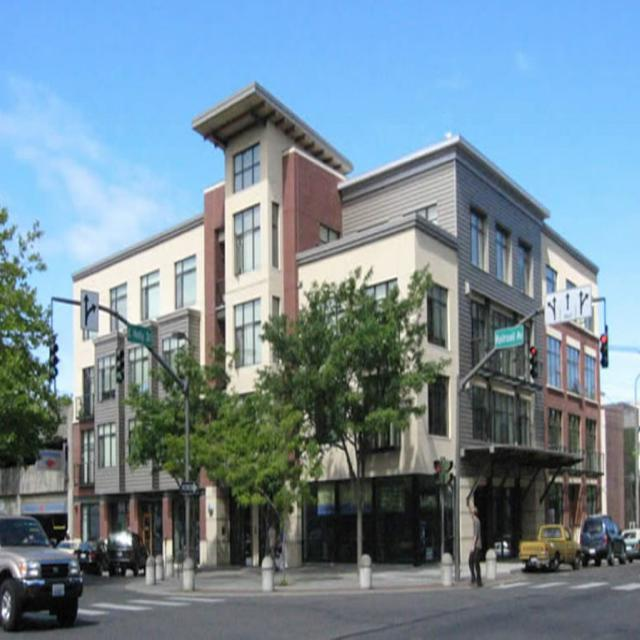car: (580, 514, 627, 561)
